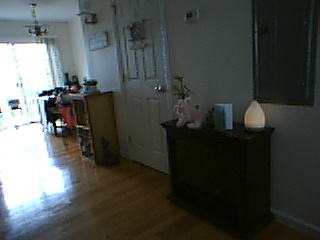piggy: (173, 97, 207, 130)
